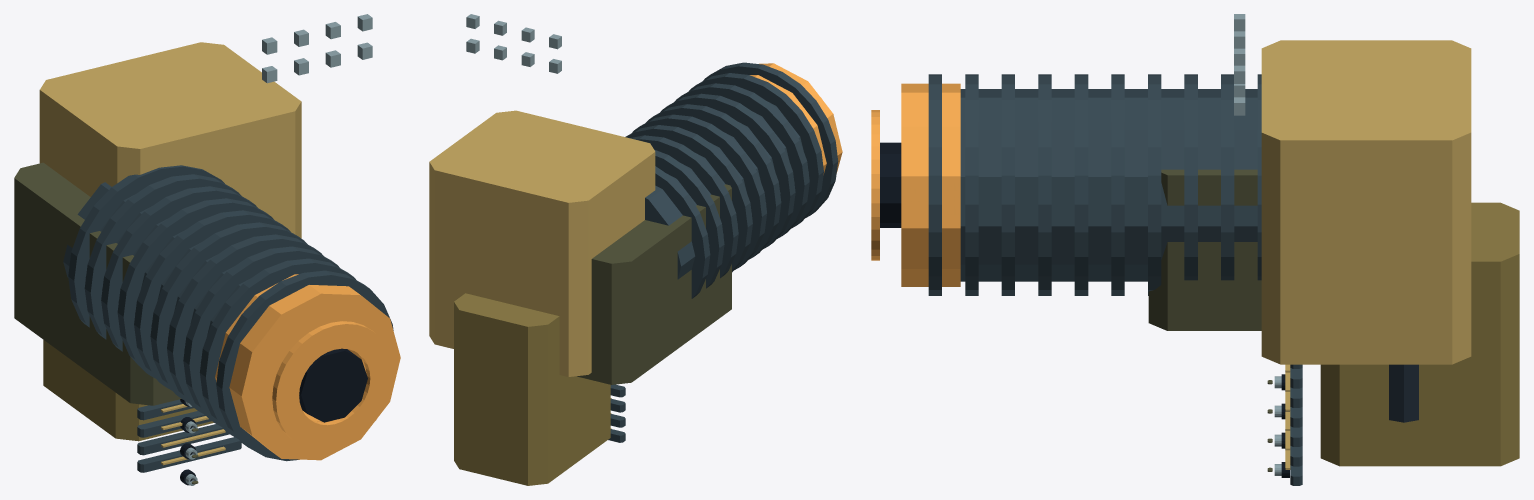
The model's file is enemy_gunner_4k_forearm_l.obj.
3 renders of one model, left to right at view 1: azimuth 30°, elevation 25°; view 2: azimuth 150°, elevation 25°; view 3: azimuth 270°, elevation 25°, orthographic. The views are drawn at different scales.
Bounding box in the file's own units: 0.687 × 1.01 × 1.21.
